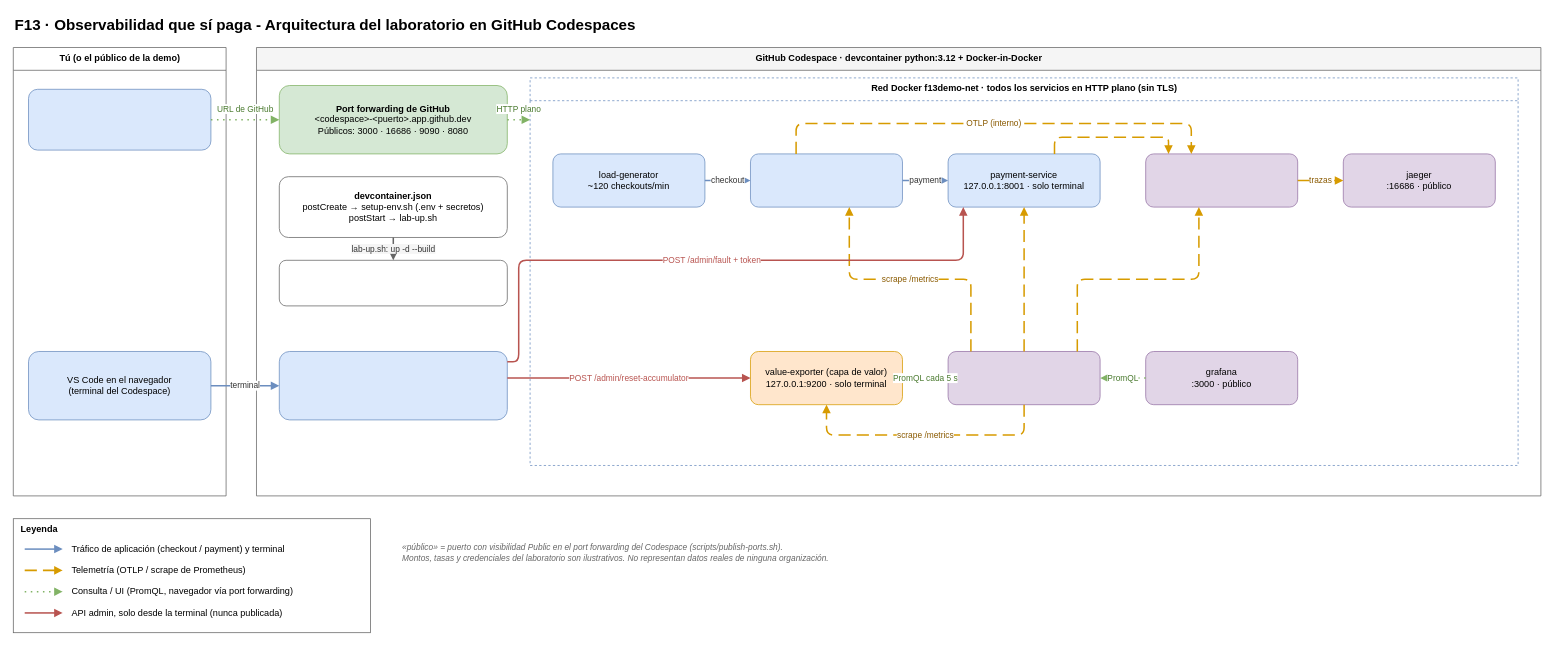
Image size: 1554x646. Some labels were removed from this diagram. The shapes that lost their labels are listed below. From the top down, each one's centre as x and y in pixels, then its label:
At pixel 119 119: "Navegador Grafana · Jaeger · Prometheus Swagger de shop-api".
At pixel 826 180: "shop-api :8080 · público".
At pixel 1221 180: "otel-collector :4317 / :4318 (interno)".
At pixel 393 283: "Docker Compose compose.yaml".
At pixel 393 385: "Scripts (bash) inject-fault · recover · demo-reset business-snapshot · status".
At pixel 1023 378: "prometheus :9090 · público".
